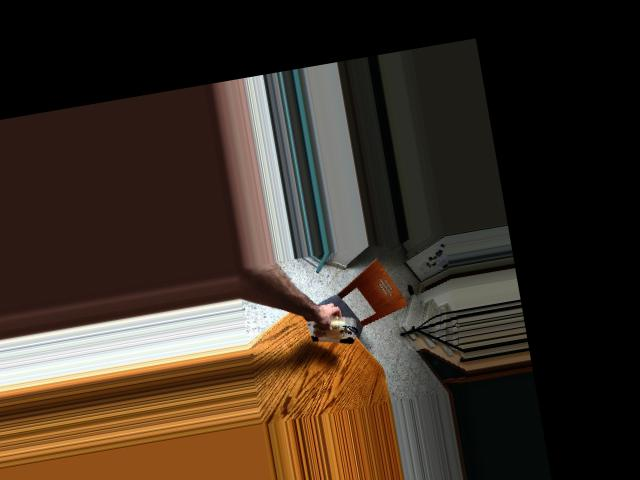cheese: (306, 310, 357, 350)
